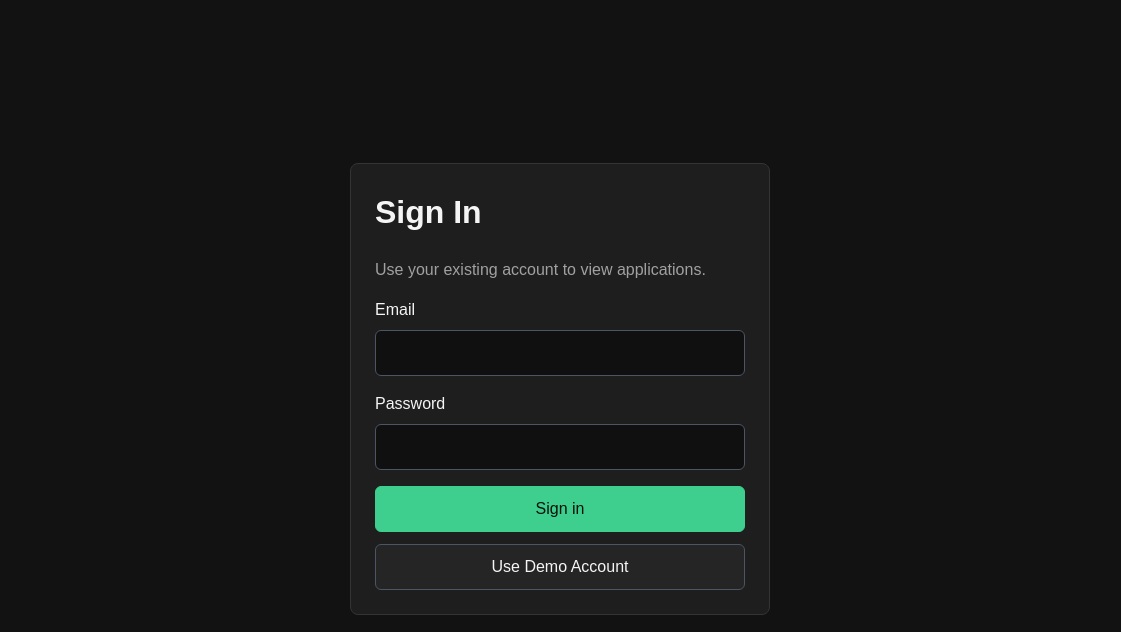
Test: App auth and routing › stores the token and redirects to applications after successful login
Type "user@example.com" into the field labelled "Email" at (560, 353), box [375,330,745,376]
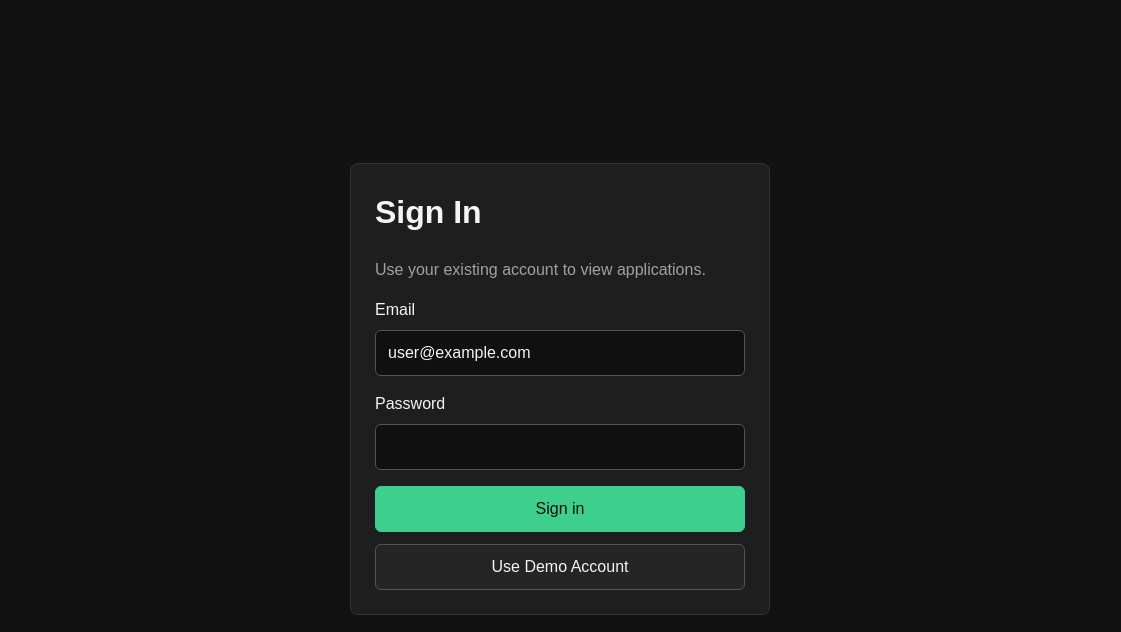
Type "correct-password" into the password field labelled "Password" at (560, 447), box [375,424,745,470]
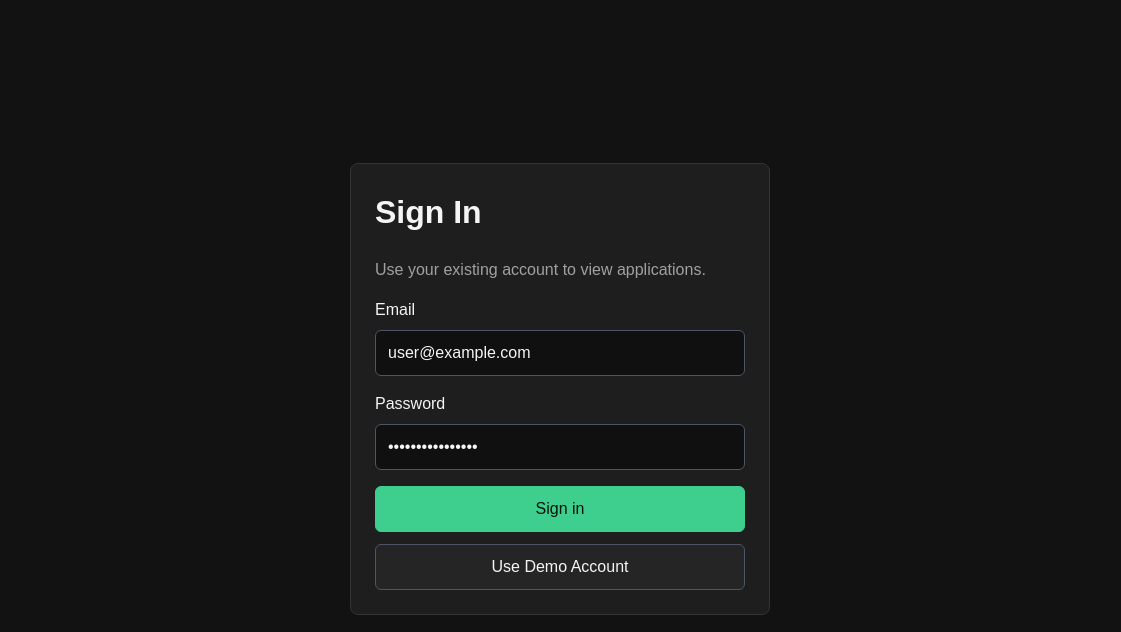
Click the button "Sign in" at (560, 509), box [375,486,745,532]
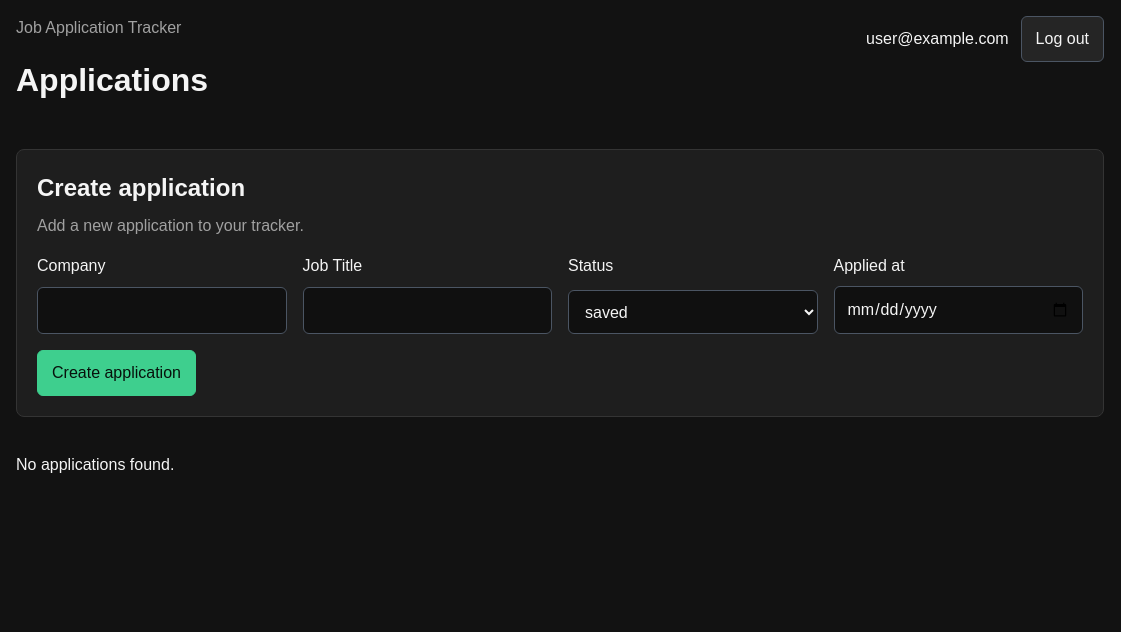
Expected: the heading "Applications" is shown, [16,56,208,104]
